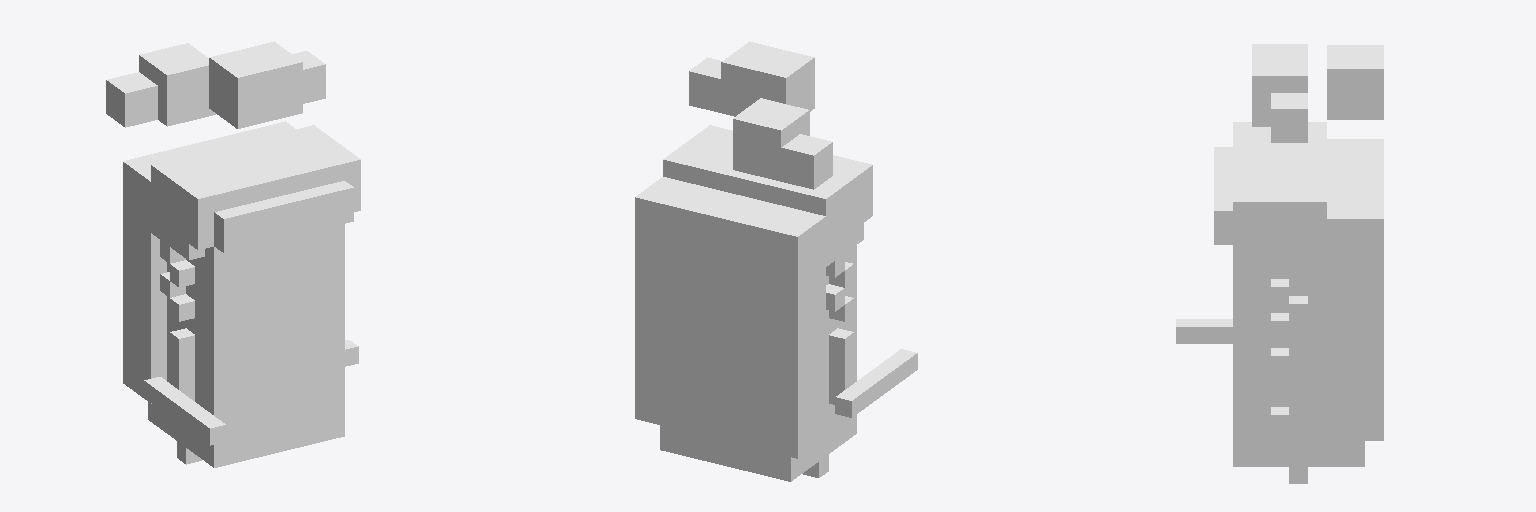
The model's file is WeatherGirl.obj.
3 renders of one model, left to right at view 1: azimuth 30°, elevation 25°; view 2: azimuth 150°, elevation 25°; view 3: azimuth 270°, elevation 25°, orthographic.
Bounding box in the file's own units: 12 × 23 × 11.